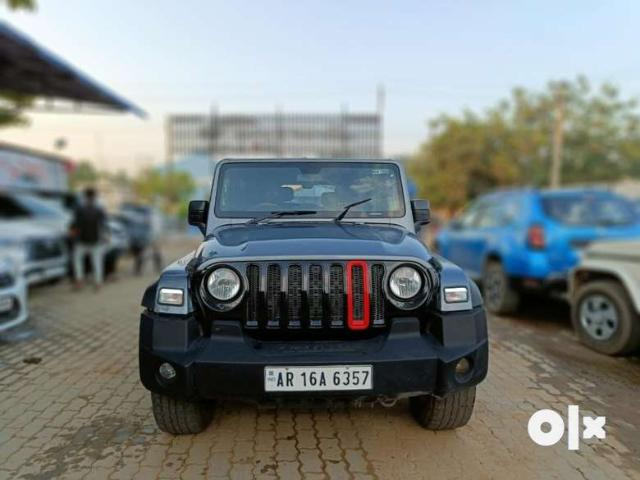Indian_Number_Plate: (264, 366, 372, 390)
